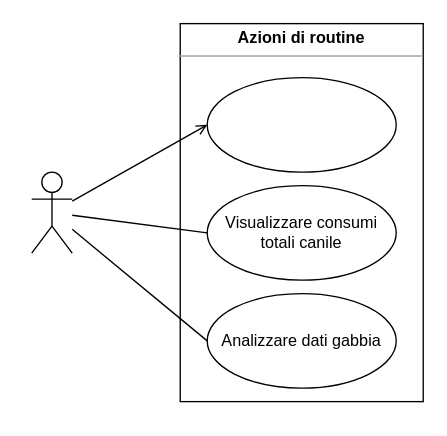
Some shapes in this 447 by 436 pixel diagram are drawn without their labels. Each missing label, with the box of its shape:
Gestore: (30, 171, 72, 253)
Impostare dati occupante gabbia: (206, 76, 396, 172)
